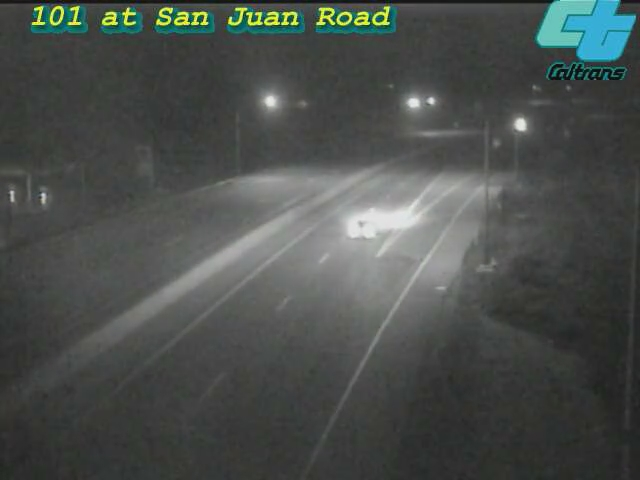vehicle: (324, 186, 404, 266), (495, 100, 545, 150)
